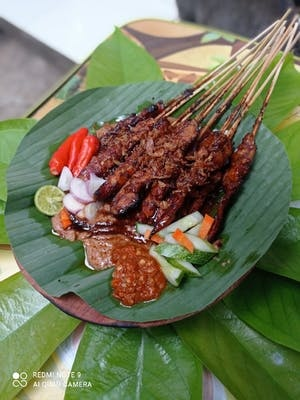sate: (57, 95, 258, 273)
